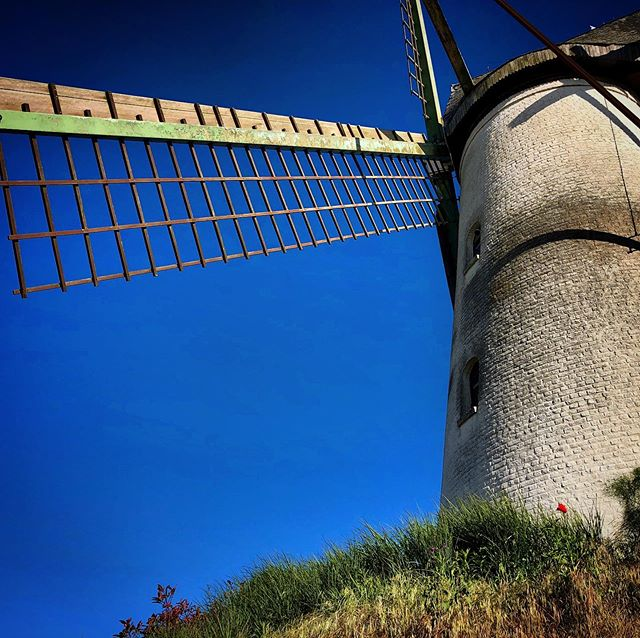sky: (1, 1, 430, 503)
vegetation: (172, 508, 640, 638)
windmill: (1, 1, 640, 513)
